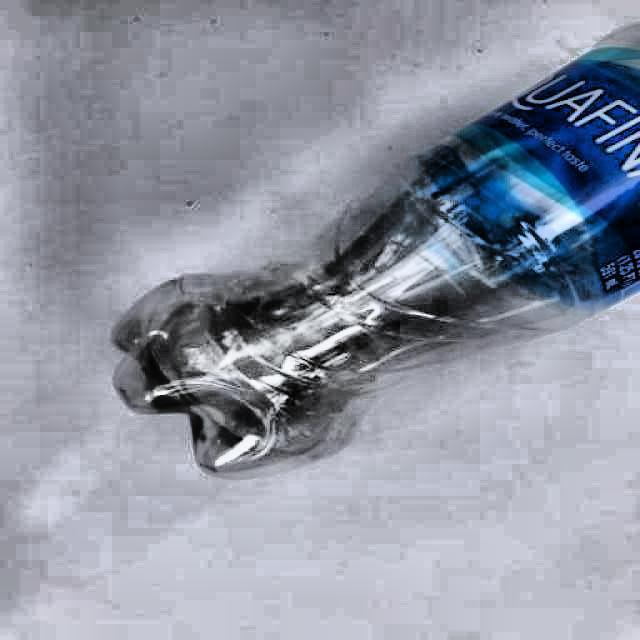plastic: (115, 26, 640, 471)
